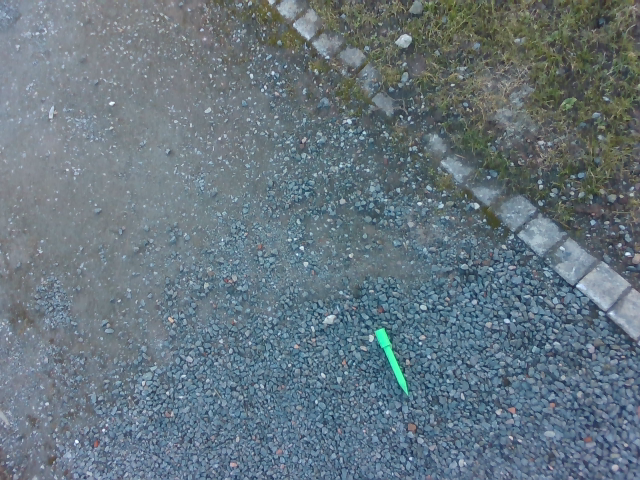Probe: (370, 319, 412, 400)
